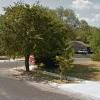Tree: (2, 3, 88, 84)
